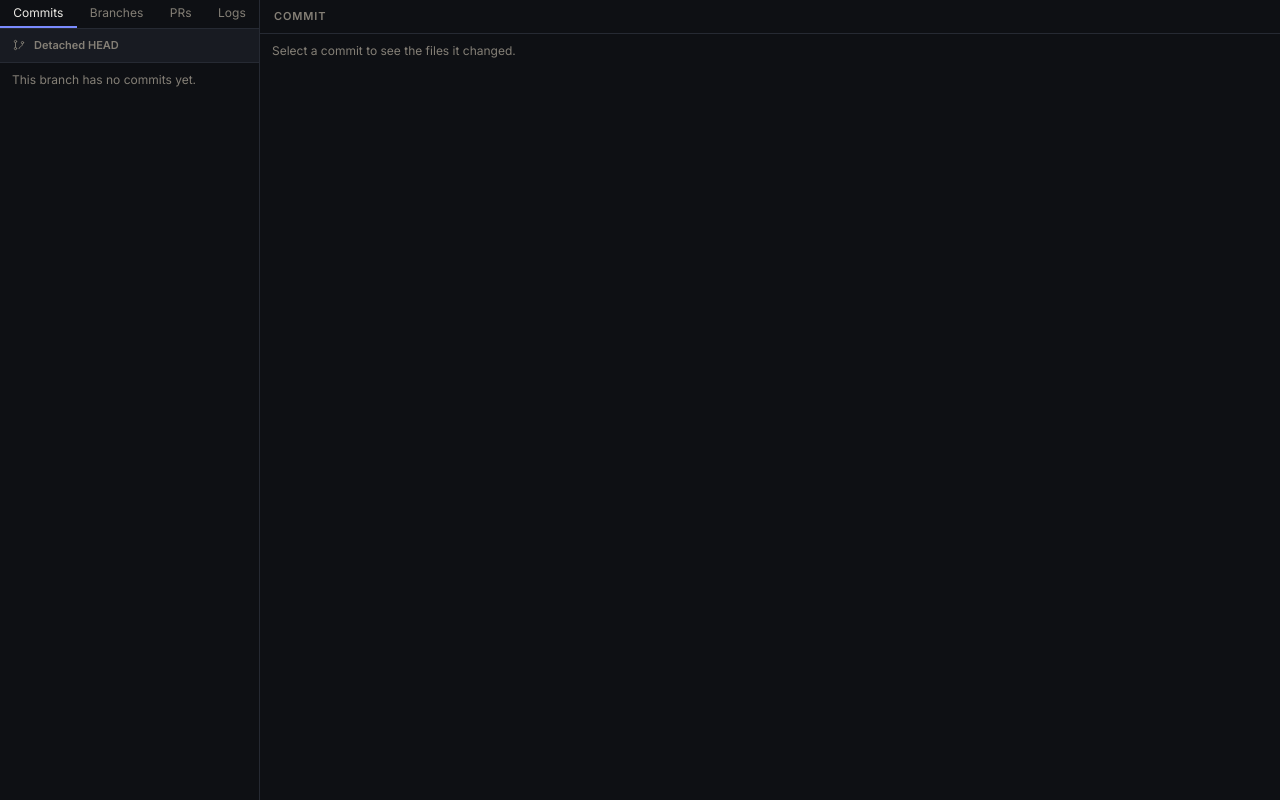
Test case: refusals read at the inspection (GIT-FR-GAMV) › GIT-FR-GAMV, GIT-FR-QYWP: branch_in_active_worktree shows beside the row, opens no confirmation and switches nothing
Click the tab "Branches". click: [117, 12]
box: top-left (90, 5), bottom-right (143, 20)
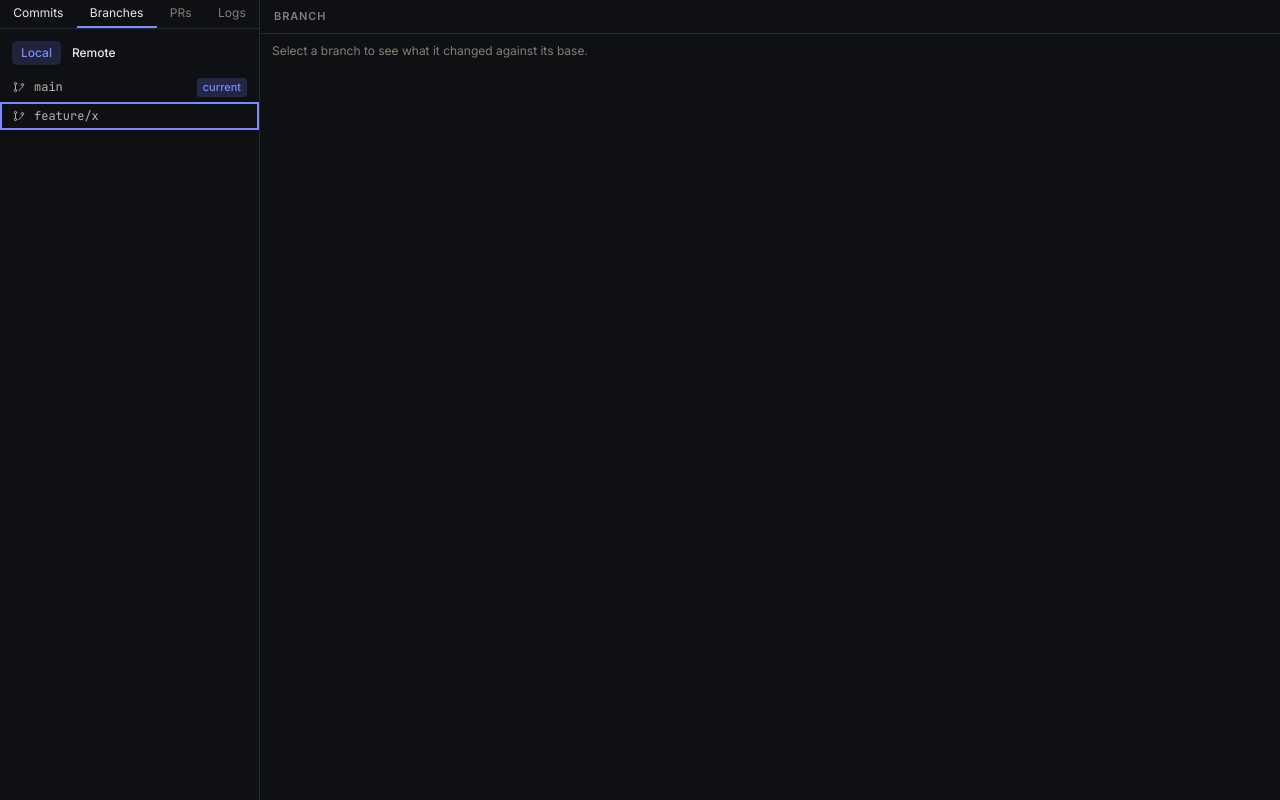
Expected: the text "feature/x" is shown, top-left (34, 108), bottom-right (99, 124)
Press Contextmenu
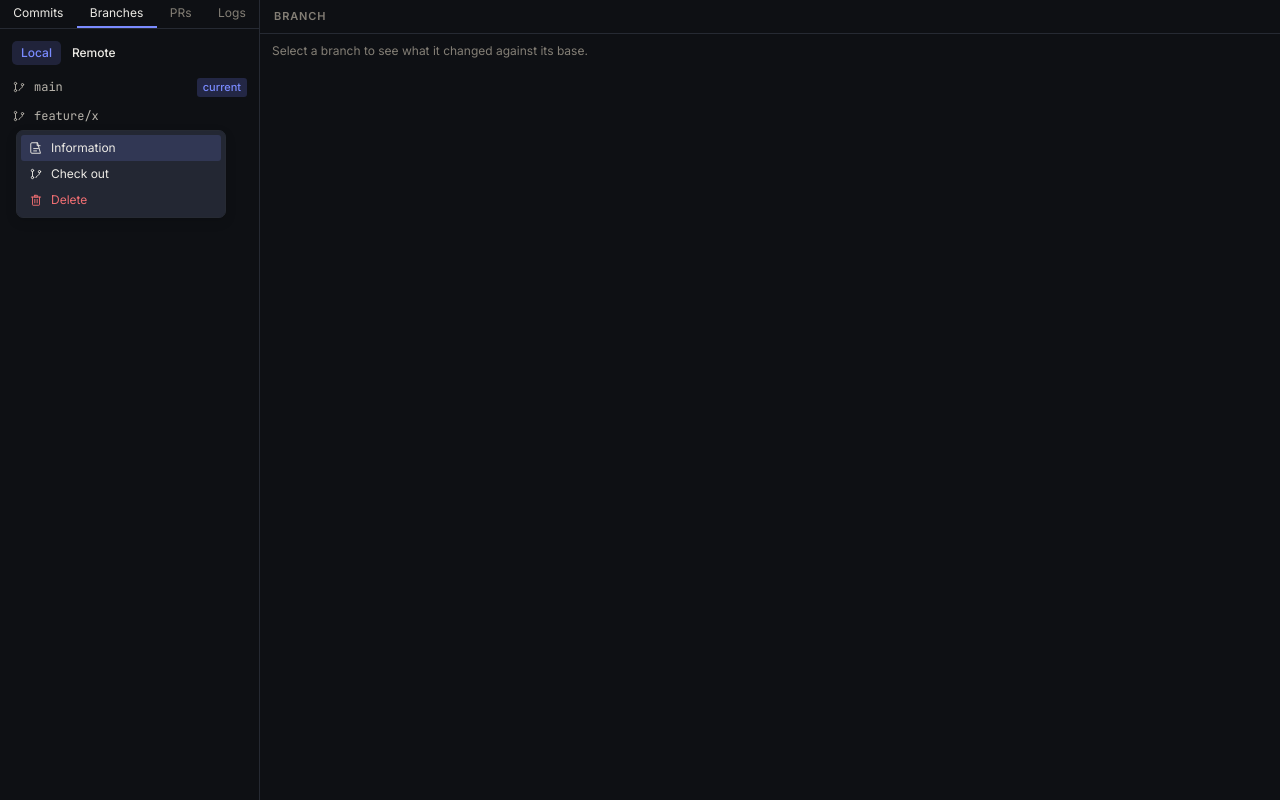
Click the menu item "Delete". click: [121, 200]
box: top-left (21, 186), bottom-right (221, 212)
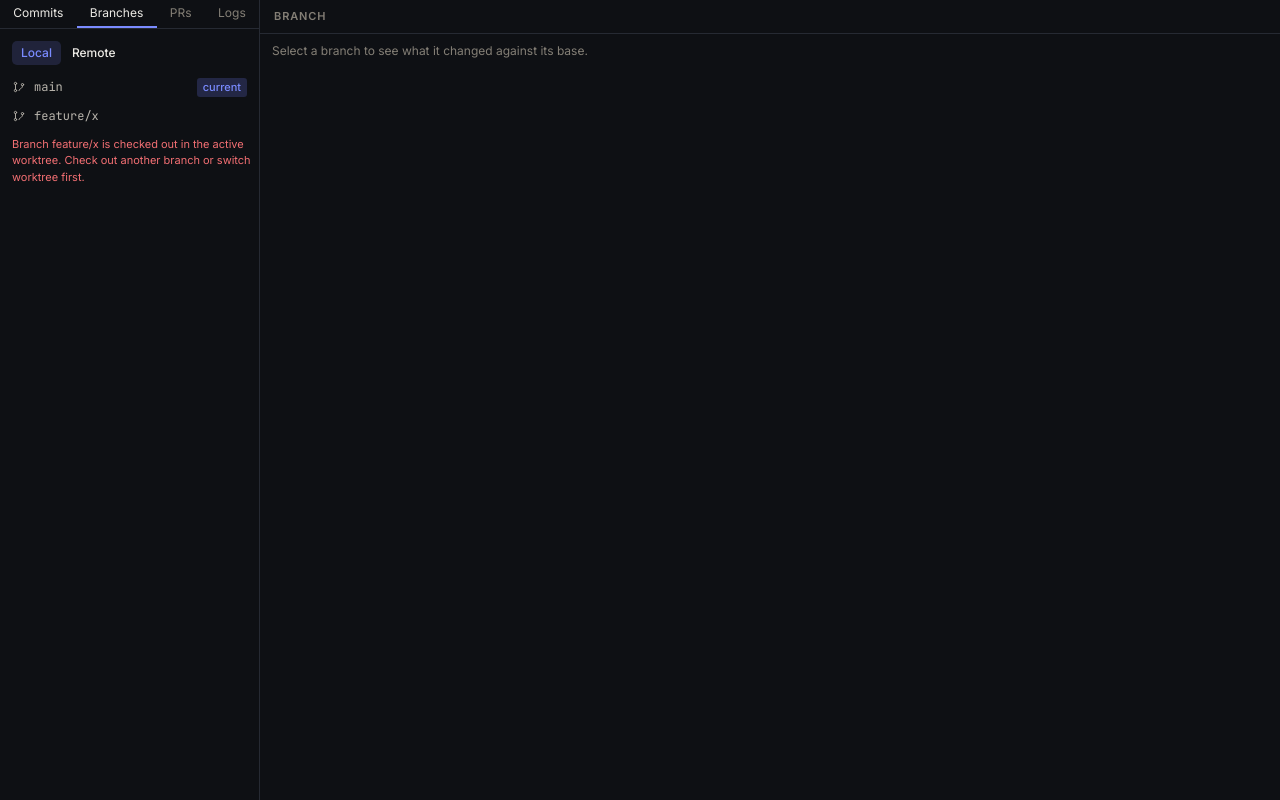
Expected: the message with test id "git-branch-refusal" shows "Branch feature/x is checked out in the active worktree. Check out another branch or switch worktree first.", top-left (12, 136), bottom-right (251, 184)
